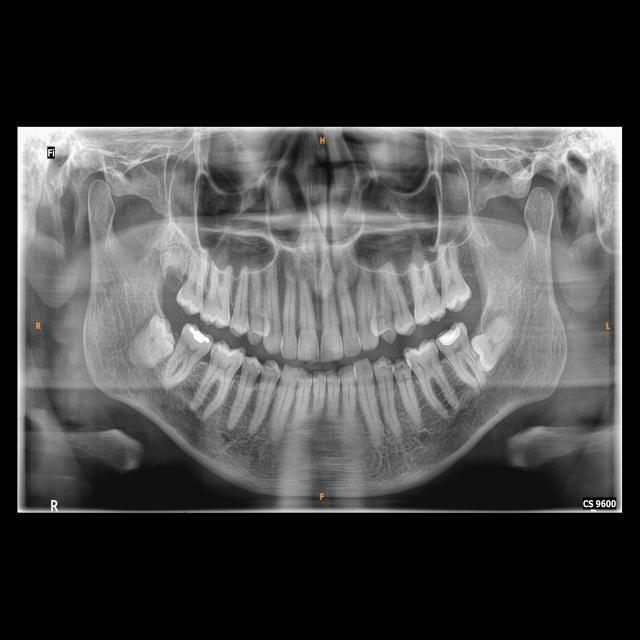dolgu: (437, 323, 469, 348), (186, 324, 210, 348)
